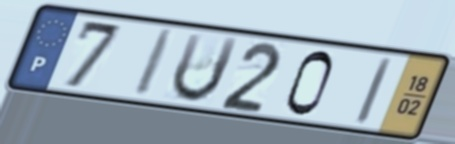0: (284, 48, 335, 118)
2: (219, 38, 286, 117)
7: (65, 17, 123, 90)
I: (130, 27, 180, 100), (351, 55, 397, 128)
U: (169, 30, 243, 106)
